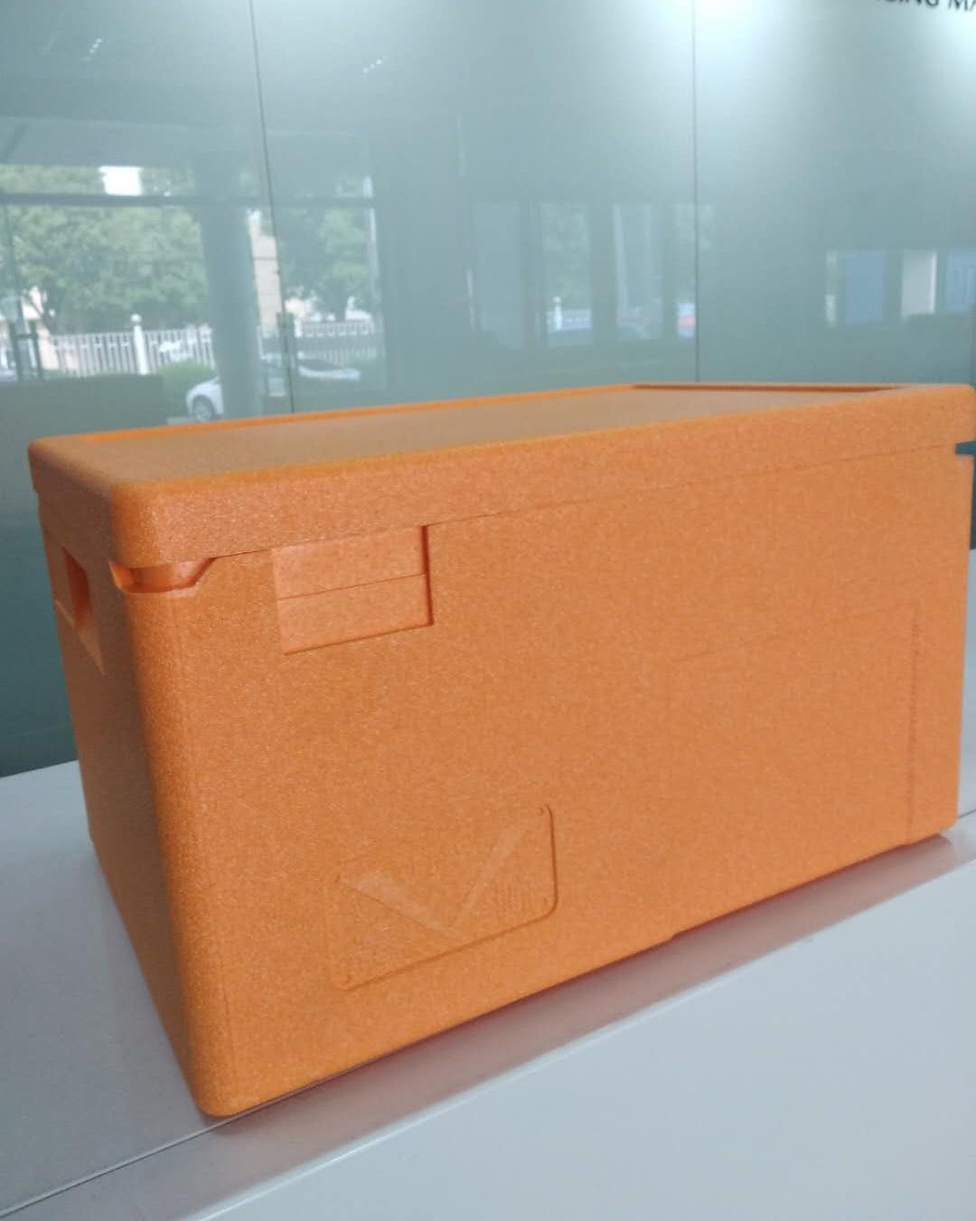good-parcel: (31, 382, 969, 1119)
